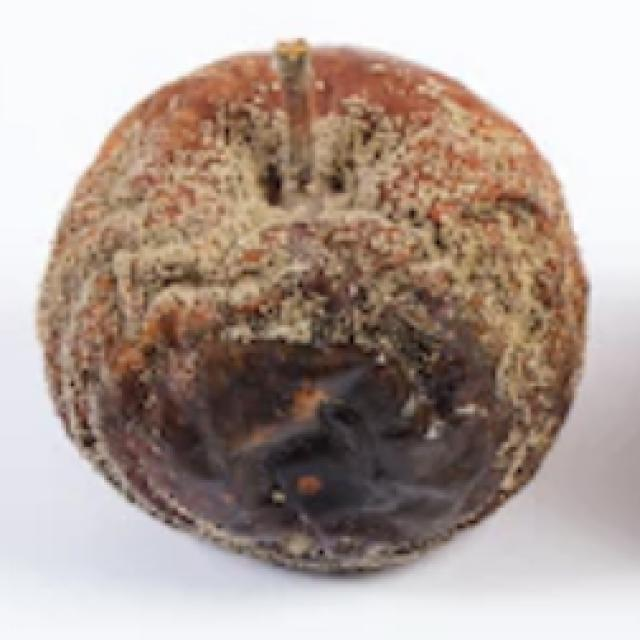Rotten: (50, 49, 578, 584)
